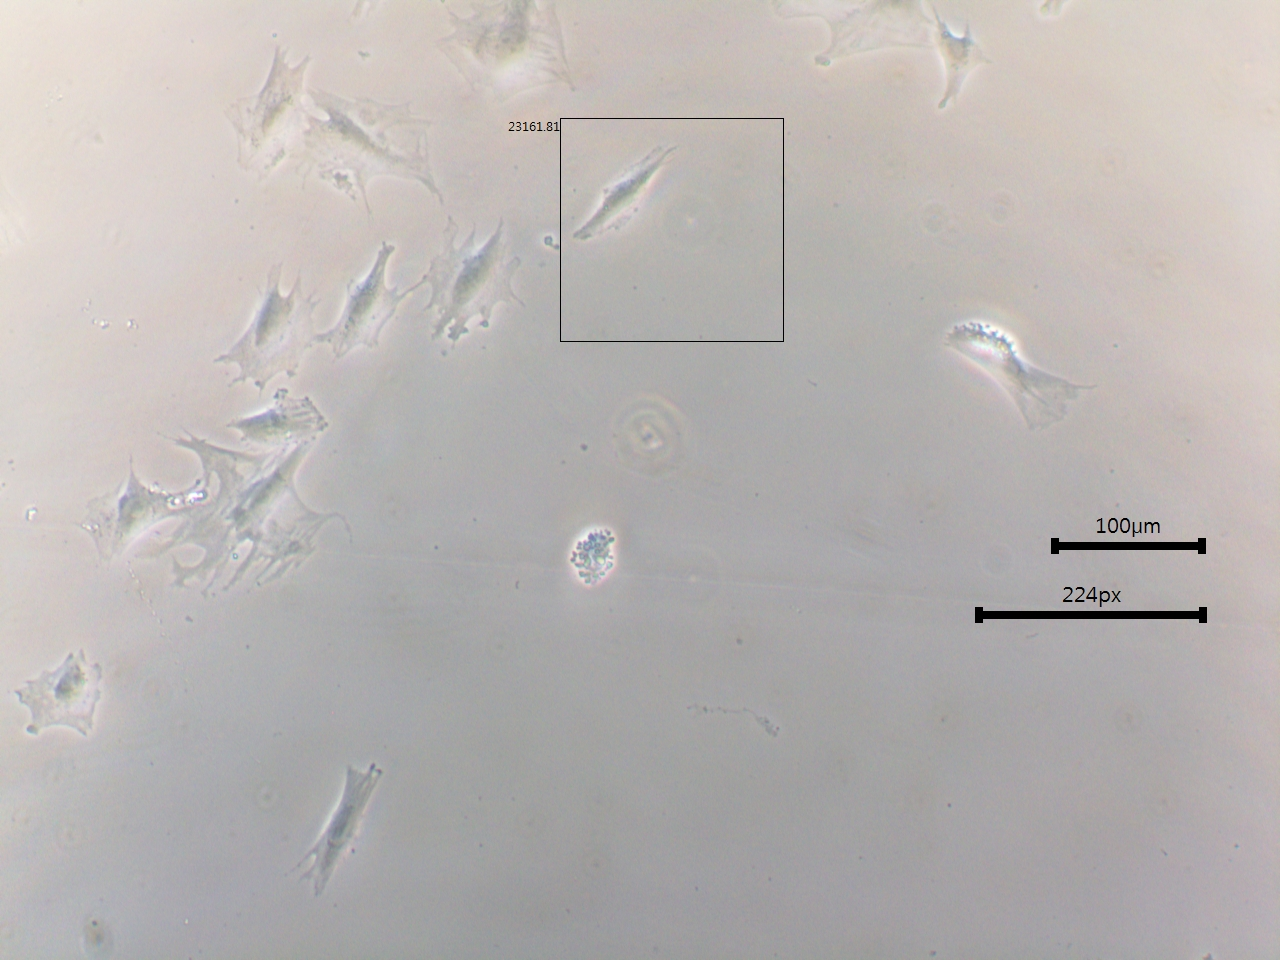large-spread: (173, 414, 342, 614)
medium-polygonal: (289, 754, 394, 929), (568, 139, 682, 258)
medium-spread: (919, 298, 1099, 454), (419, 205, 533, 366), (302, 83, 444, 211), (211, 268, 319, 393), (10, 631, 117, 757)
small-spread: (322, 232, 416, 371)
